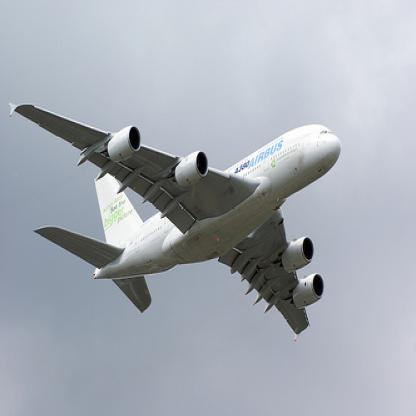aeroplane: (6, 101, 345, 345)
